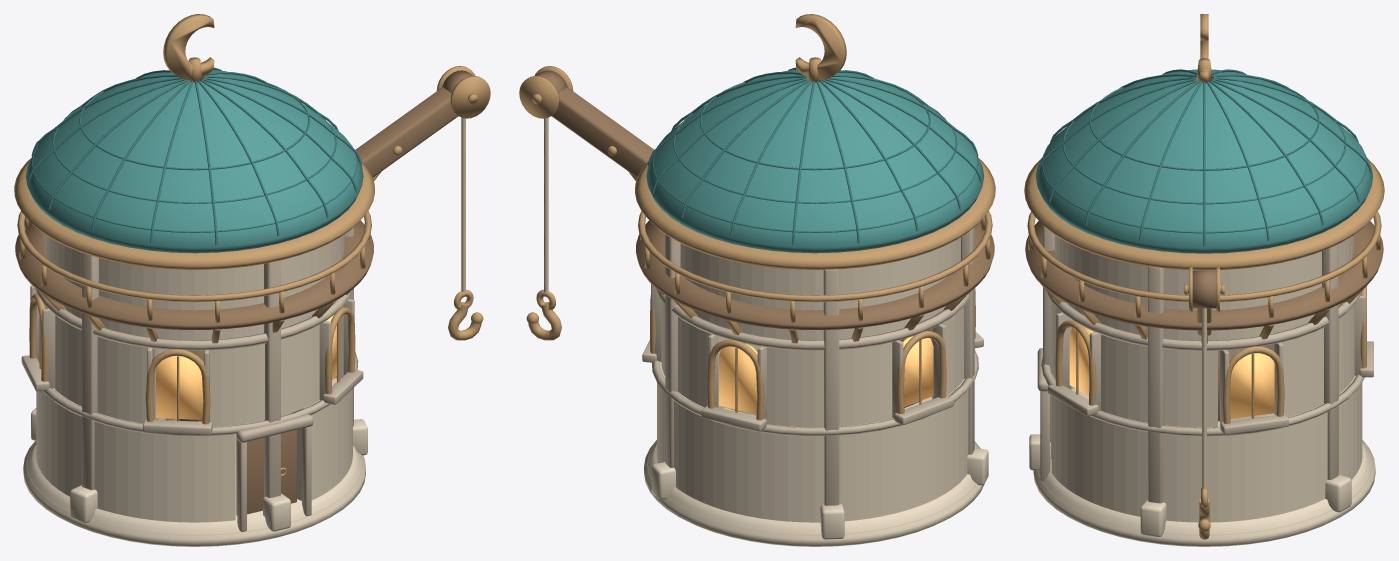
File: world09-dock-architecture-v1.glb
3 views of the same model, side by side, from view 1: azimuth 30°, elevation 25°; view 2: azimuth 150°, elevation 25°; view 3: azimuth 270°, elevation 25° (orthographic).
Parts seen in each view (by area): view 1: dock-building-limestone, dock-building-teal, dock-building-limestone-shadow, dock-building-copper, dock-building-walnut, dock-building-teal-dark, dock-crane-walnut, dock-building-amber, dock-crane-copper, dock-crane-rope; view 2: dock-building-limestone, dock-building-teal, dock-building-limestone-shadow, dock-building-copper, dock-building-teal-dark, dock-building-walnut, dock-building-amber, dock-crane-walnut, dock-crane-copper, dock-crane-rope; view 3: dock-building-limestone, dock-building-teal, dock-building-limestone-shadow, dock-building-copper, dock-building-teal-dark, dock-building-walnut, dock-building-amber, dock-crane-copper, dock-crane-walnut, dock-crane-rope.
Part boxes in pixels (x1,y1,x2,y2): dock-building-limestone: [23, 234, 367, 546]; dock-building-teal: [25, 70, 363, 253]; dock-building-limestone-shadow: [21, 227, 363, 535]; dock-building-copper: [14, 14, 374, 476]; dock-building-walnut: [15, 220, 373, 515]; dock-building-teal-dark: [27, 67, 361, 244]; dock-crane-walnut: [179, 70, 472, 421]; dock-building-amber: [45, 305, 336, 419]; dock-crane-copper: [166, 66, 490, 420]; dock-crane-rope: [461, 118, 465, 292]; dock-building-limestone: [644, 237, 988, 546]; dock-building-teal: [646, 70, 984, 253]; dock-building-limestone-shadow: [642, 227, 983, 535]; dock-building-copper: [635, 14, 995, 420]; dock-building-teal-dark: [648, 67, 982, 244]; dock-building-walnut: [636, 220, 994, 407]; dock-building-amber: [719, 336, 933, 414]; dock-crane-walnut: [537, 70, 654, 177]; dock-crane-copper: [519, 66, 636, 340]; dock-crane-rope: [544, 118, 548, 292]; dock-building-limestone: [1029, 235, 1375, 546]; dock-building-teal: [1036, 69, 1372, 253]; dock-building-limestone-shadow: [1037, 225, 1373, 535]; dock-building-copper: [1024, 14, 1384, 423]; dock-building-teal-dark: [1036, 69, 1372, 246]; dock-building-walnut: [1025, 221, 1383, 330]; dock-building-amber: [1069, 327, 1274, 418]; dock-crane-copper: [1184, 267, 1224, 539]; dock-crane-walnut: [1192, 270, 1219, 421]; dock-crane-rope: [1202, 308, 1206, 488].
Size of the model in its own units: 10.58 by 10.47 by 7.44.
